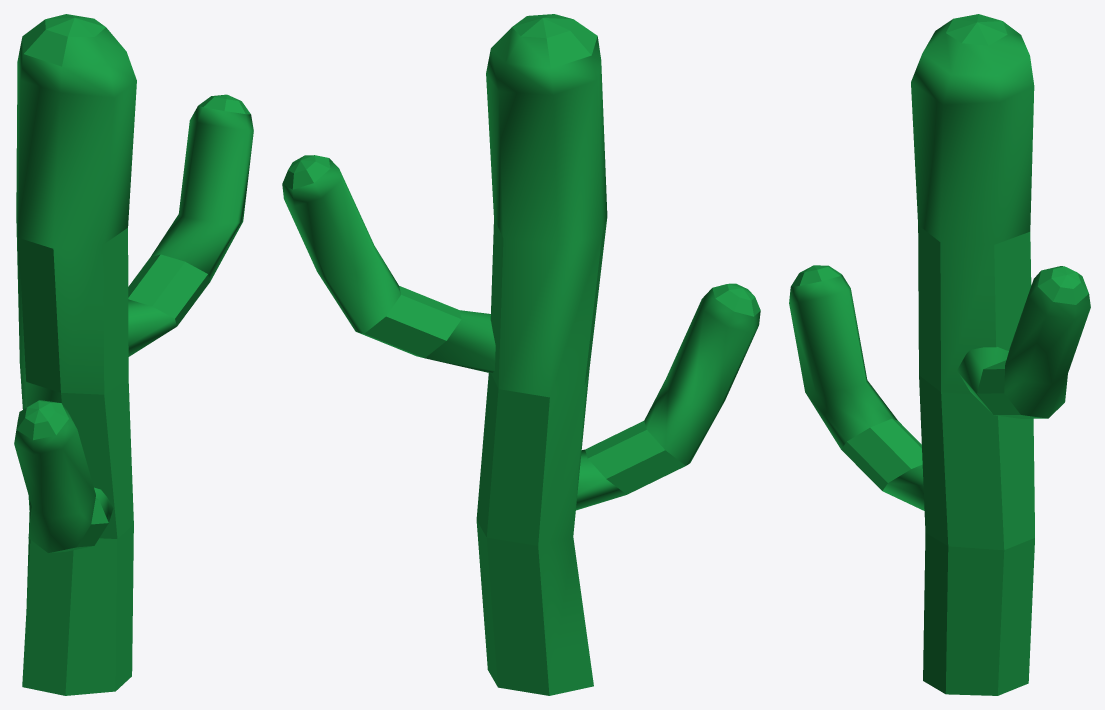
File: Cactus3.fbx
3 renders of one model, left to right at view 1: azimuth 30°, elevation 25°; view 2: azimuth 150°, elevation 25°; view 3: azimuth 270°, elevation 25°, orthographic.
Visible parts, largest first — view 1: Cactus3_LOD0; view 2: Cactus3_LOD0; view 3: Cactus3_LOD0.
Part boxes in pixels (bbox=[...]): Cactus3_LOD0: bbox=[14, 14, 253, 695]; Cactus3_LOD0: bbox=[282, 14, 760, 695]; Cactus3_LOD0: bbox=[789, 14, 1090, 695].
Size of what is drawn, in the model's own units: 6447 by 11559 by 4850.
